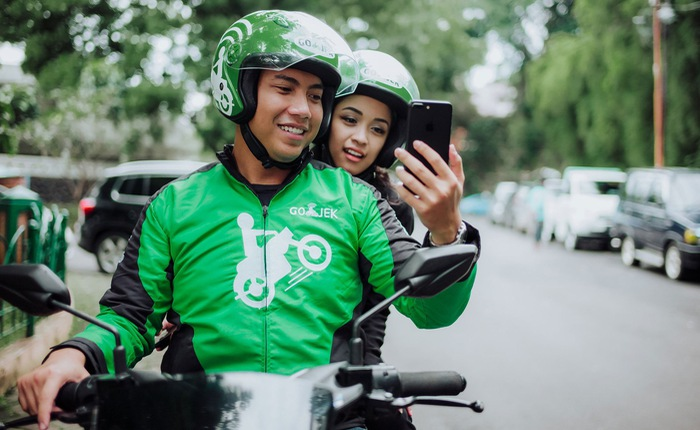su dung dien thoai: (335, 49, 466, 244)
